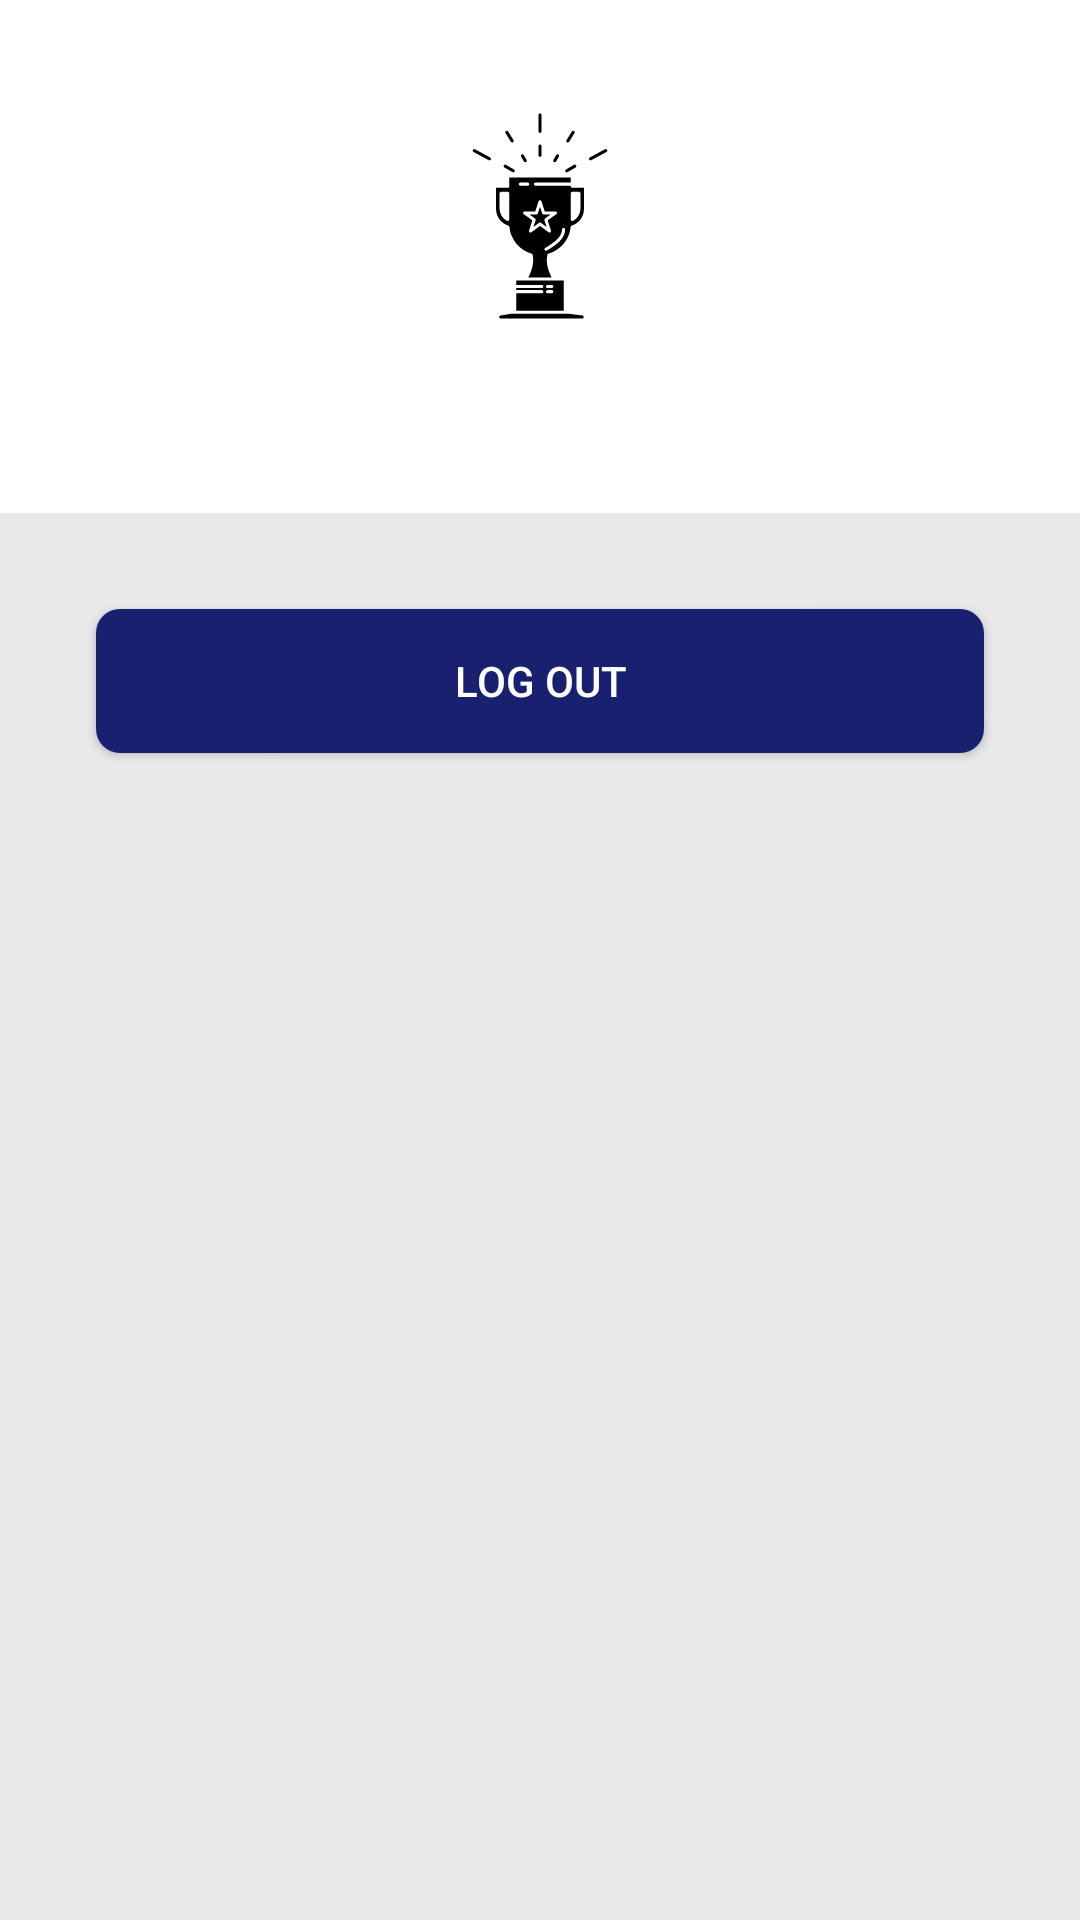

Icons on this 1080 × 1920 Android screen, each with its box as BBox(x1, y1, x2, y2):
tropy: BBox(472, 113, 608, 319)
